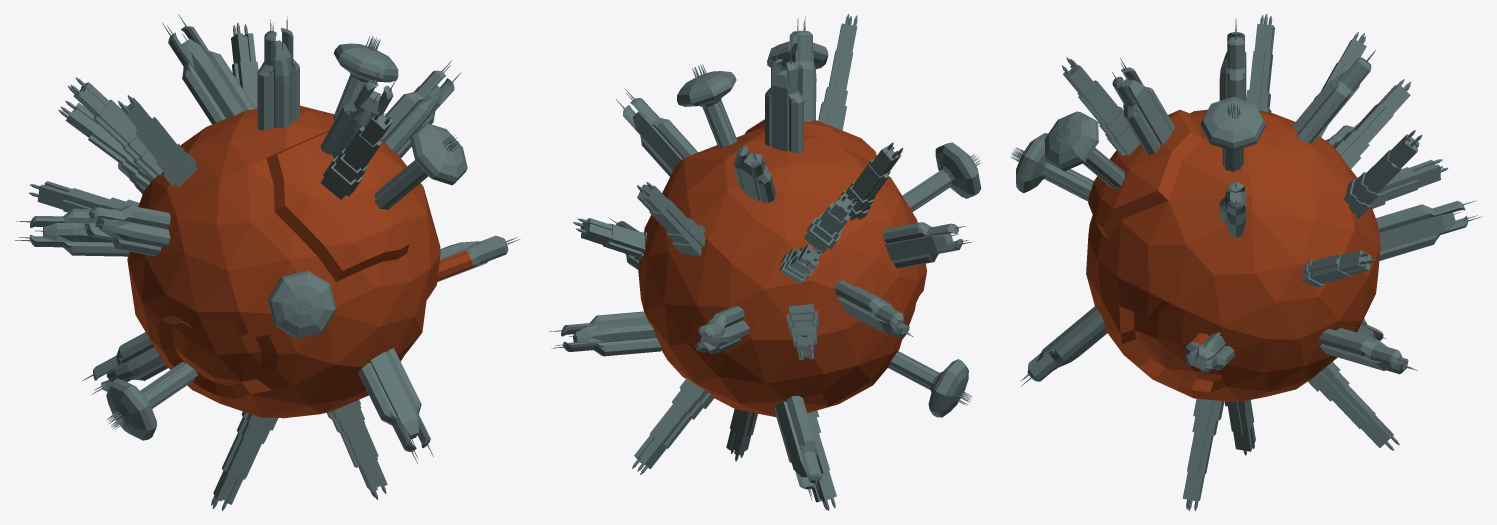
File: coruscant_zoom.dae
The picture shows the model from 3 angles, left to right: view 1: azimuth 30°, elevation 25°; view 2: azimuth 150°, elevation 25°; view 3: azimuth 270°, elevation 25°; orthographic projection. The views are drawn at different scales.
Parts seen in each view (by area): view 1: kamino; view 2: kamino; view 3: kamino.
Part boxes in pixels (x1,y1,x2,y2): kamino: (14,14,520,510); kamino: (549,14,981,510); kamino: (1010,14,1482,510).
Bounding box in the file's own units: 9.44 × 9.61 × 10.27.
